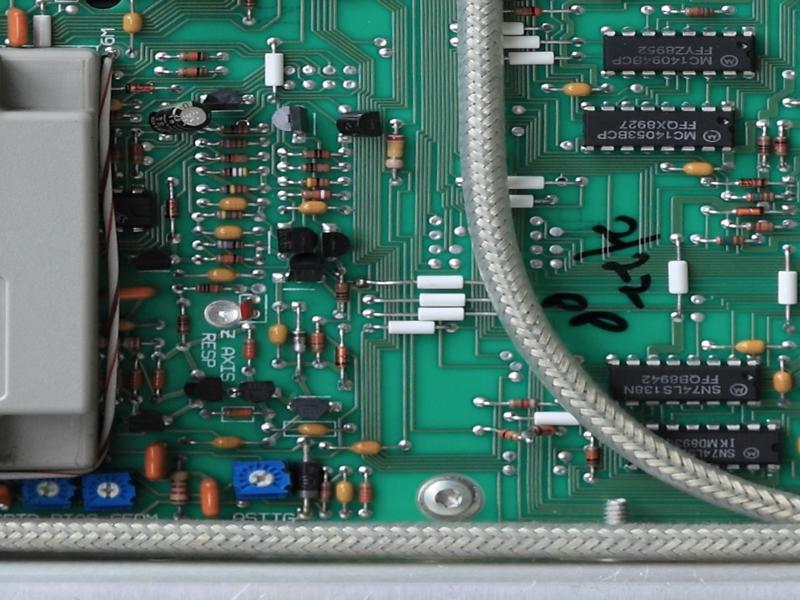Capacitor: (147, 99, 215, 137)
Diode: (292, 457, 321, 506), (288, 323, 310, 358), (119, 79, 160, 96), (731, 176, 773, 191), (162, 193, 181, 224), (332, 341, 351, 371), (728, 206, 770, 219), (527, 424, 558, 439)
Resistor: (163, 465, 191, 511), (381, 129, 408, 173), (93, 332, 144, 354), (171, 64, 213, 80), (506, 3, 545, 20), (206, 237, 253, 251), (205, 252, 252, 266), (294, 161, 335, 177), (211, 165, 254, 180), (171, 49, 217, 63), (355, 478, 376, 508), (127, 138, 147, 169), (740, 190, 781, 205), (292, 188, 339, 201), (294, 175, 334, 190), (772, 131, 792, 161), (216, 121, 253, 137), (212, 182, 254, 196), (219, 406, 255, 422), (209, 209, 250, 223), (711, 233, 749, 248), (309, 327, 326, 360), (295, 147, 335, 161), (740, 219, 777, 234), (174, 309, 192, 338), (127, 365, 145, 394), (213, 152, 253, 165), (506, 396, 540, 411), (241, 335, 259, 363), (584, 441, 602, 469), (680, 6, 717, 19), (188, 282, 227, 294), (333, 280, 351, 306), (150, 365, 168, 391), (214, 138, 252, 150), (756, 133, 772, 160), (497, 428, 523, 444), (319, 478, 333, 507)
